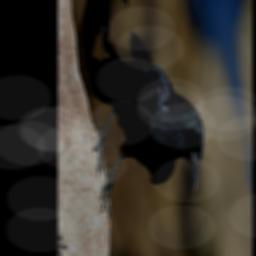Crow: (74, 0, 213, 256)
